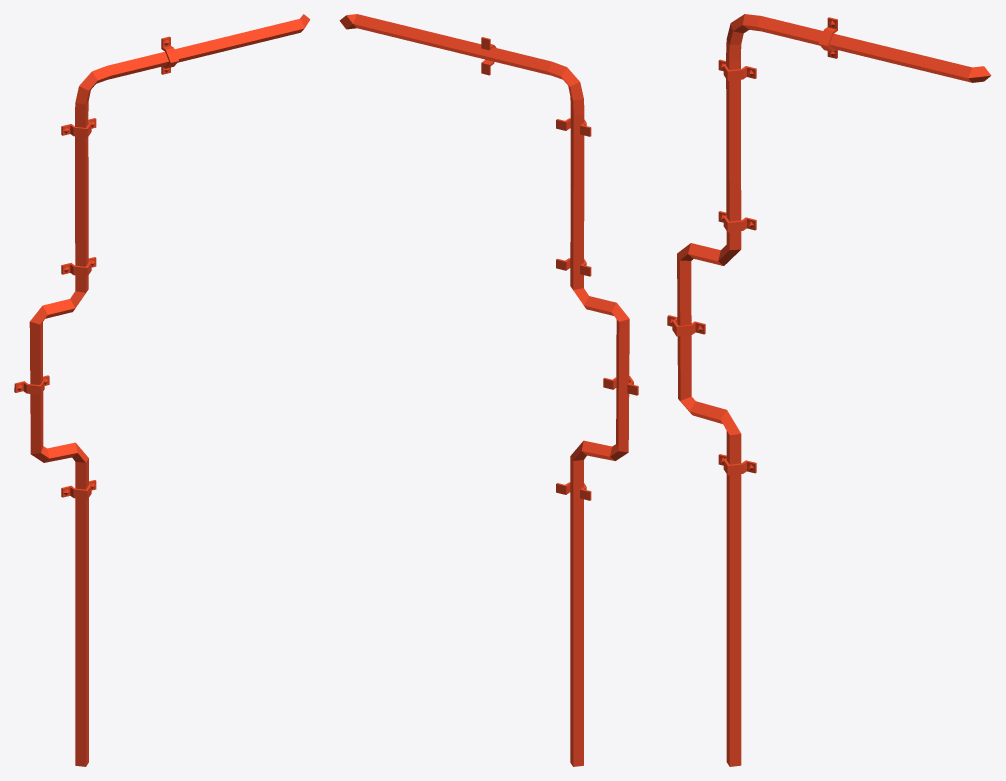
Rendered from SM_Cable_B_City.fbx.
The picture shows the model from 3 angles, left to right: view 1: azimuth 30°, elevation 25°; view 2: azimuth 150°, elevation 25°; view 3: azimuth 330°, elevation 25°; orthographic projection. The views are drawn at different scales.
Parts seen in each view (by area): view 1: SM_Cable_B_City; view 2: SM_Cable_B_City; view 3: SM_Cable_B_City.
Part boxes in pixels (left/top/right/bottom): SM_Cable_B_City: left=14, top=14, right=310, bottom=766; SM_Cable_B_City: left=339, top=14, right=638, bottom=766; SM_Cable_B_City: left=667, top=14, right=991, bottom=766.
Size of the model in its own units: 0.6559 by 1.49 by 0.0366.
